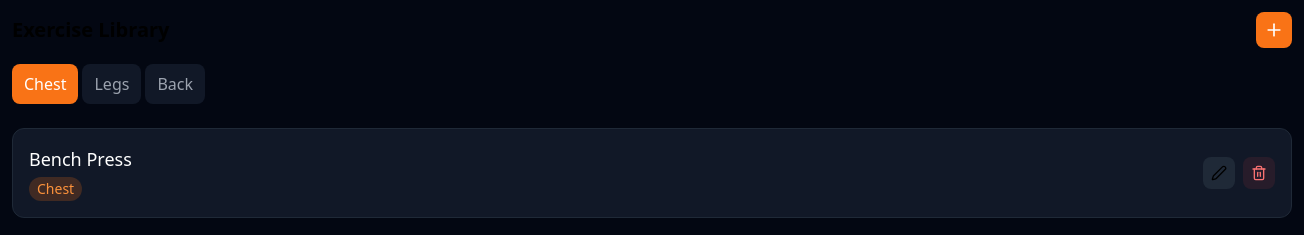
Scenario: LibraryView - Complete Workflow › should switch categories and show filtered exercises
# Click on Legs category
Step 1. Click the button "Legs" → (112, 84), box [82,64,141,104]
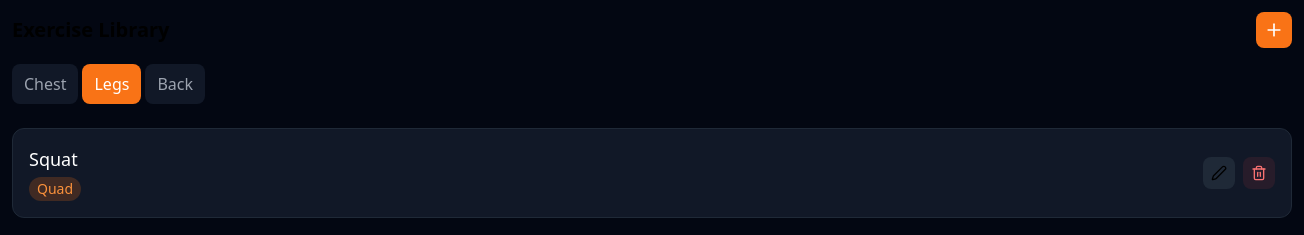
Expected: the text "Squat" is shown, [29,147,78,171]
Expected: the button "Bench Press" is gone
